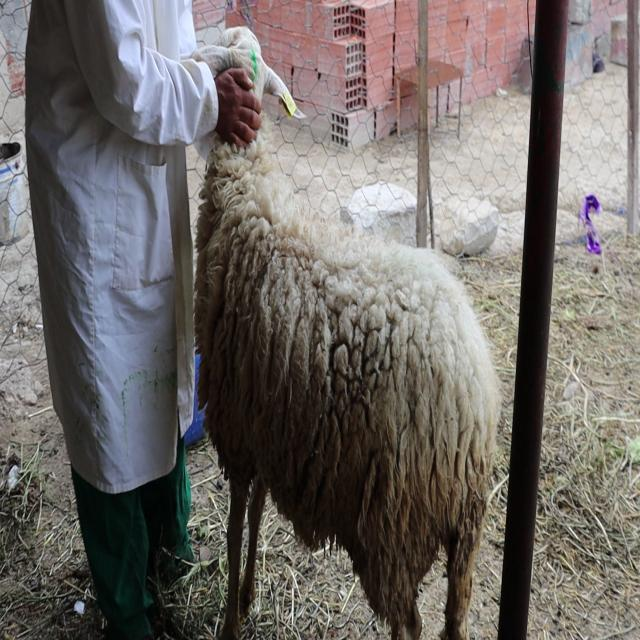Score_3: (195, 138, 500, 639)
